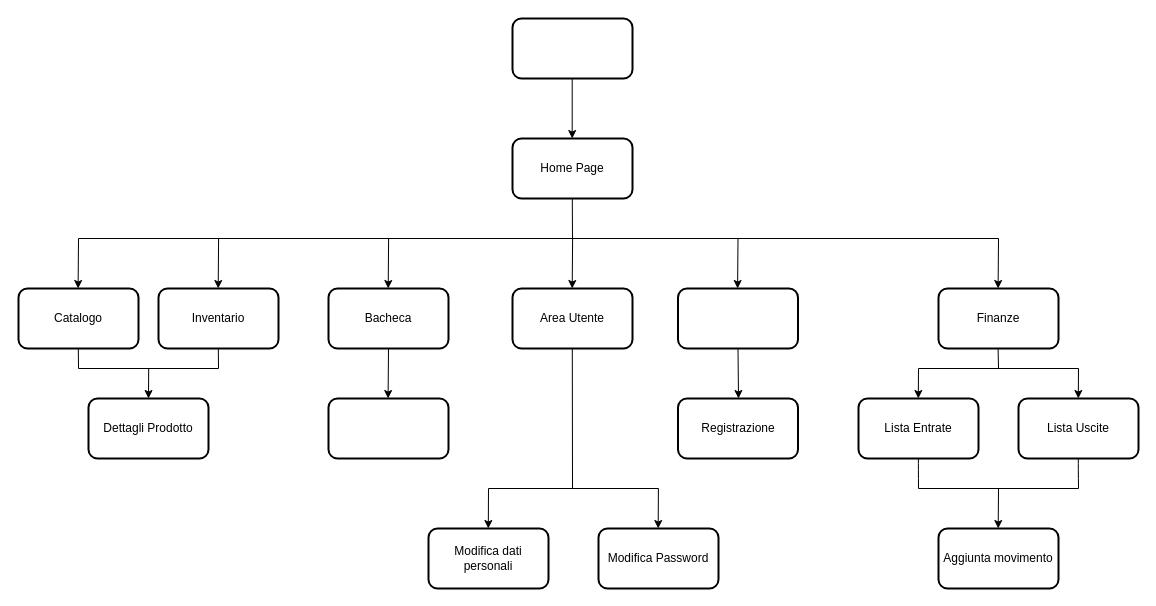
Image size: 1156x606. Some labels were removed from this diagram. The shapes that lost their labels are listed below. From the top down, each one's centre as x and y in pixels, then its label:
[572,48]: Login
[737,318]: Gestione Dipendenti
[388,428]: Invio di un messaggio
